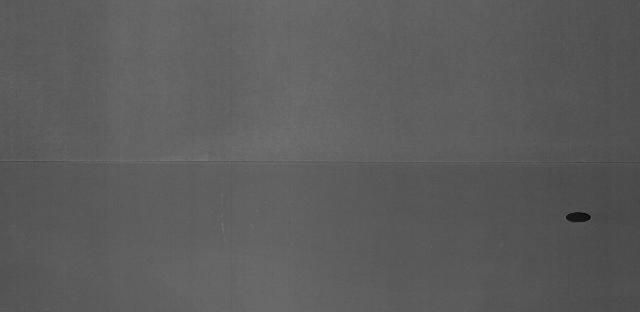punching_hole: (561, 208, 594, 227)
welding_line: (2, 154, 637, 172)
